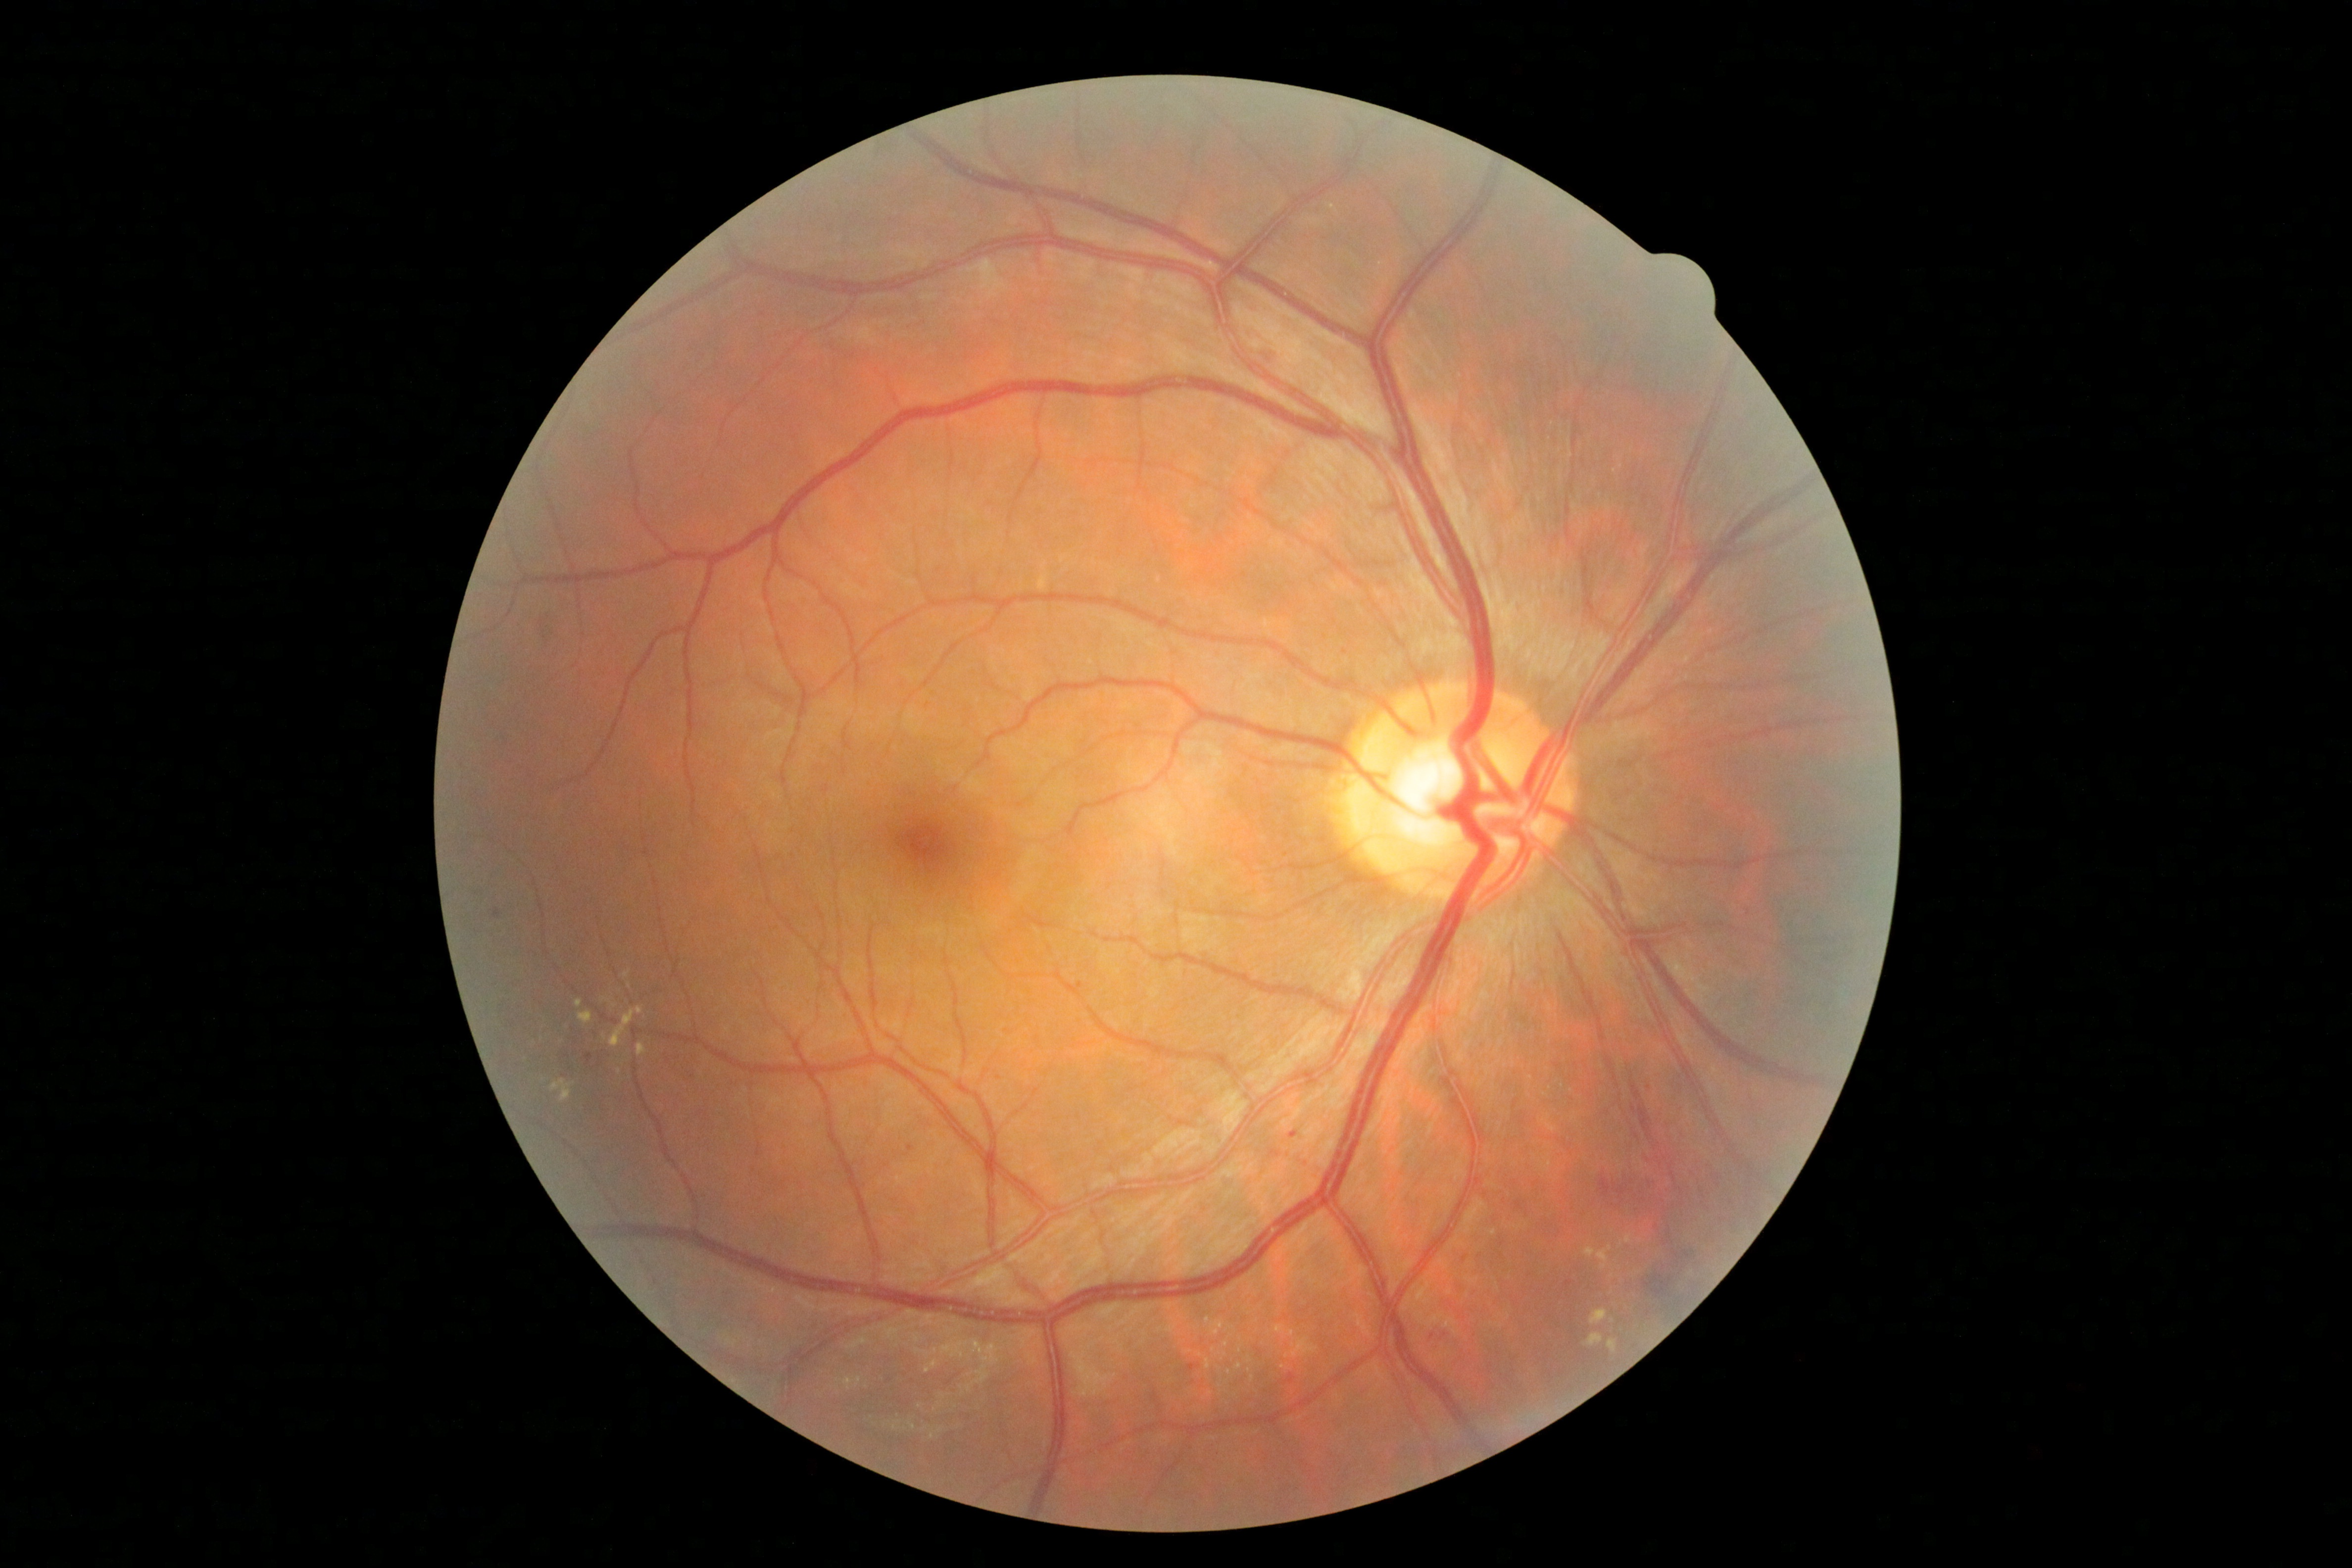Fovea: (842, 772, 1008, 917)
OD: (1309, 660, 1594, 926)
